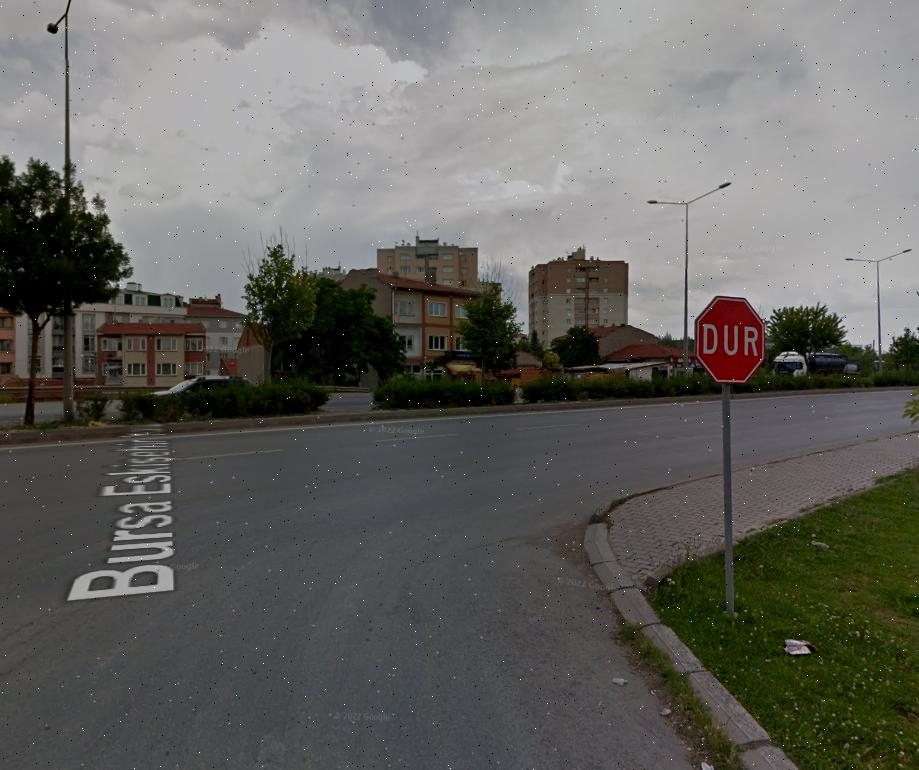stop: (697, 296, 762, 378)
